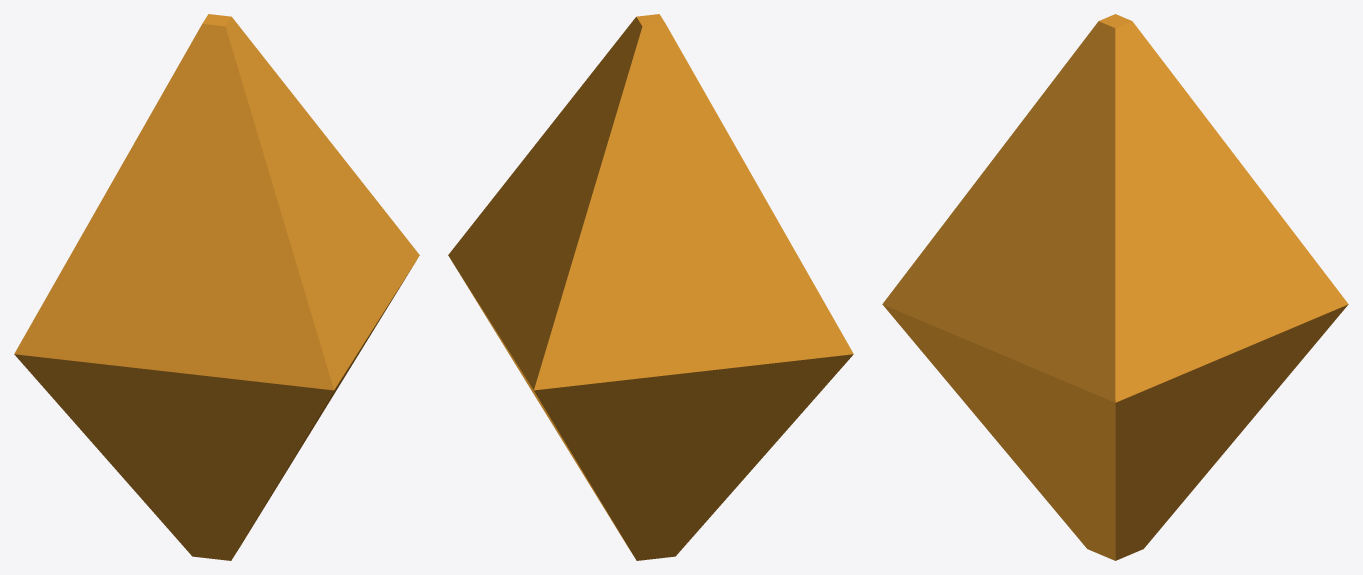
Rendered from ParticulasFire.fbx.
The picture shows the model from 3 angles, left to right: view 1: azimuth 30°, elevation 25°; view 2: azimuth 150°, elevation 25°; view 3: azimuth 270°, elevation 25°; orthographic projection.
Parts seen in each view (by area): view 1: Circle.004; view 2: Circle.004; view 3: Circle.004.
Boxes of the visible parts, bbox=[...] form: Circle.004: bbox=[14, 14, 419, 560]; Circle.004: bbox=[448, 14, 853, 560]; Circle.004: bbox=[882, 14, 1348, 560].
Size of the model in its own units: 200 by 250 by 200.
